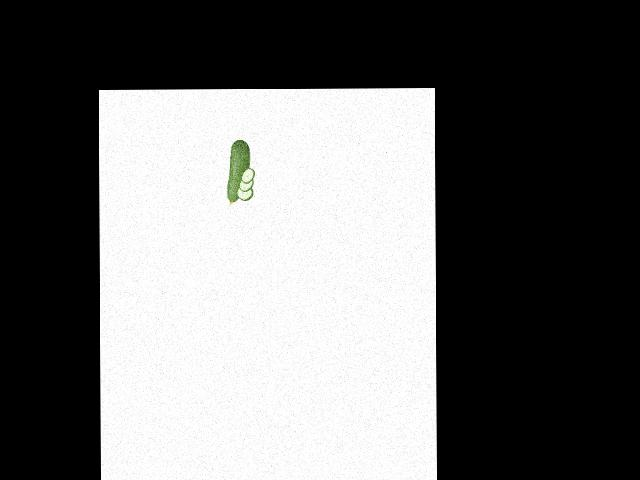cucumber: (227, 139, 250, 205)
